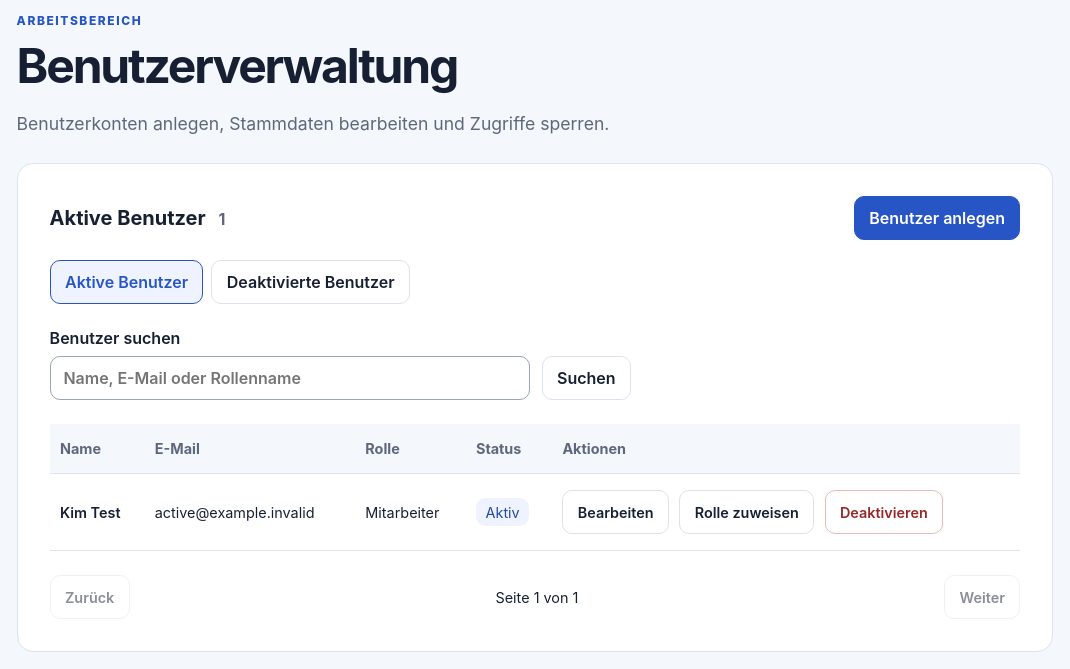
Scenario: Benutzerlisten nach Kontostatus › zeigt zuerst aktive Nutzer und lädt deaktivierte Nutzer erst nach Umschalten
Expected: the text "active@example.invalid" is shown, [144,474,355,551]
Step 1. Click the button "Deaktivierte Benutzer" → (311,282), box [211,260,410,304]
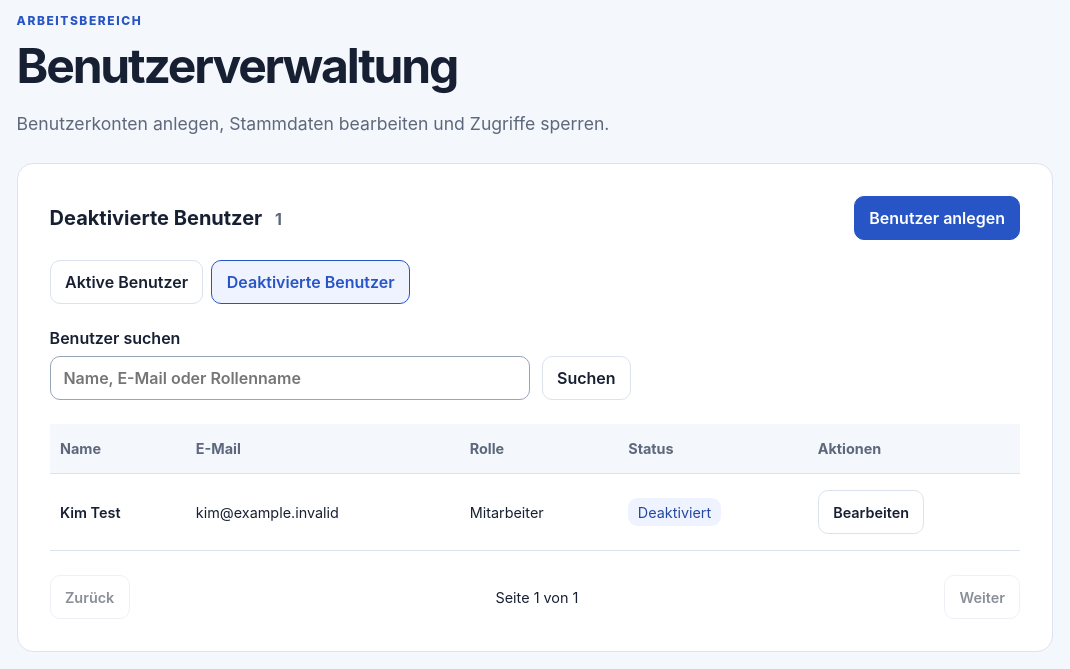
Now the text "kim@example.invalid" is shown, box [186,474,459,551]
Now the text "Deaktiviert" is shown, box [628,498,721,526]
Now the text "active@example.invalid" is gone
Step 2. Click the button "Aktive Benutzer" → (126,282), box [50,260,203,304]
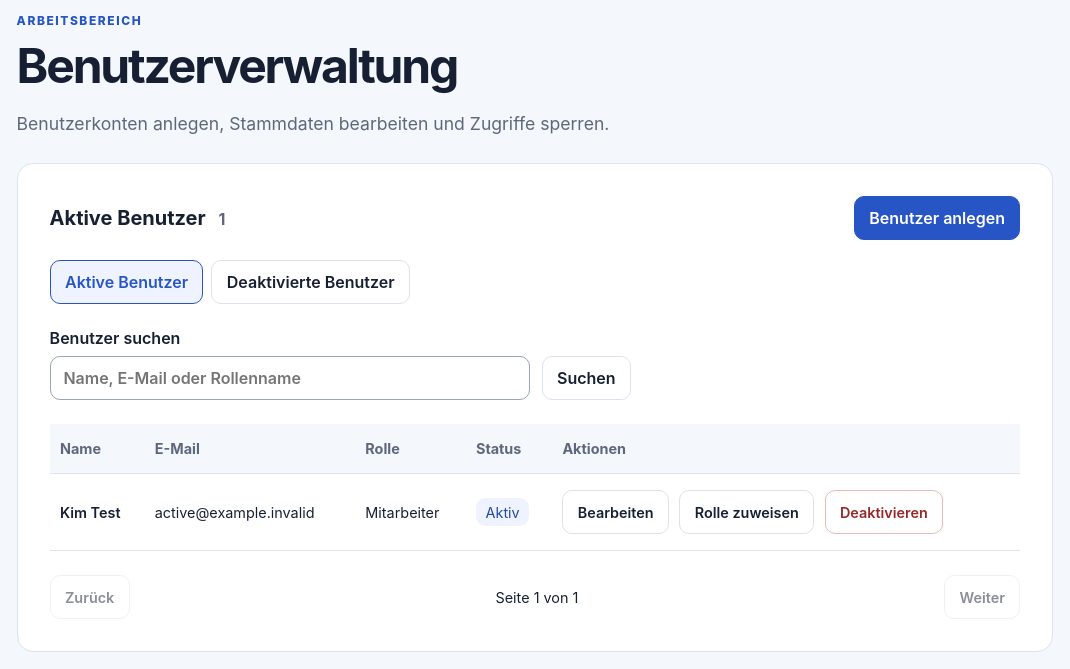
Now the text "active@example.invalid" is shown, box [144,474,355,551]
